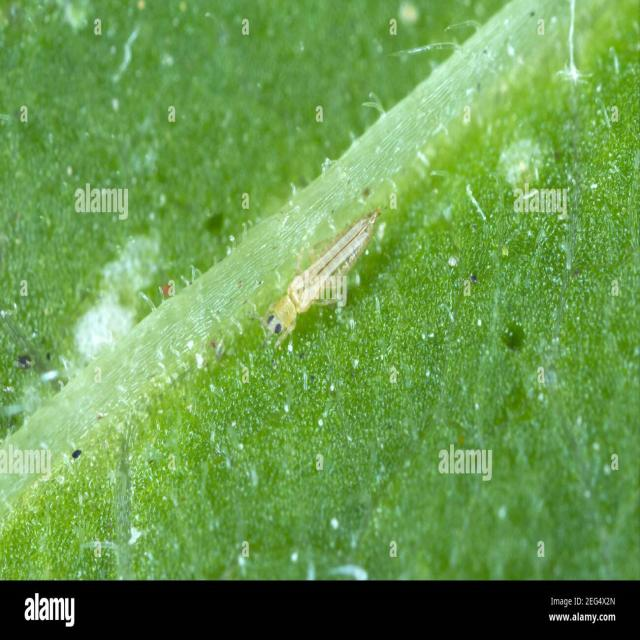Thrip-Adult-: (260, 208, 384, 348)
